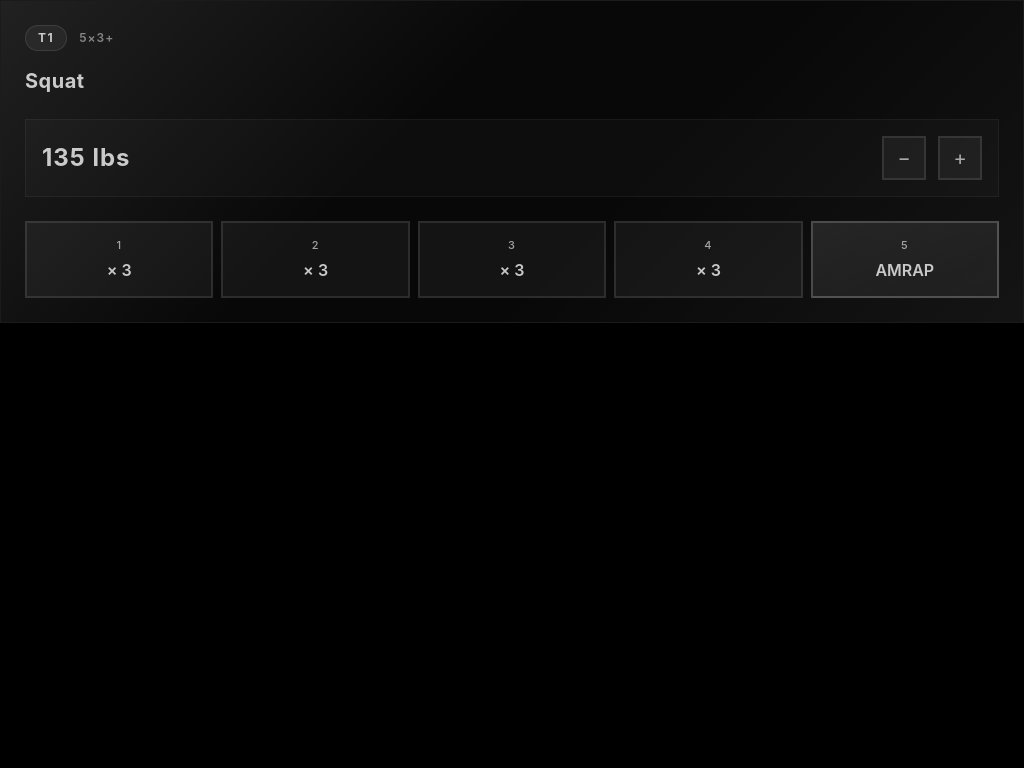
it: T1 AMRAP Functionality › should show AMRAP modal when clicking last T1 set
The width and height of the screenshot is (1024, 768).
Click the button "5 AMRAP" at (905, 259), box [811,221,999,298]
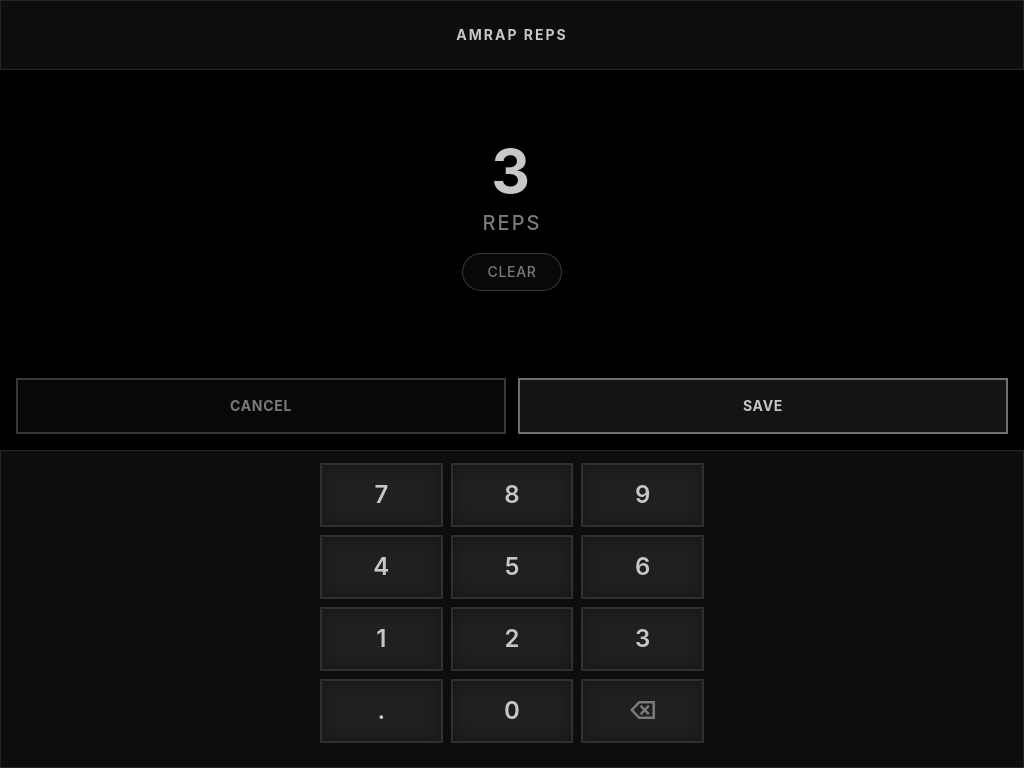
Result: the heading "AMRAP Reps" is shown at [456,25,568,45]
